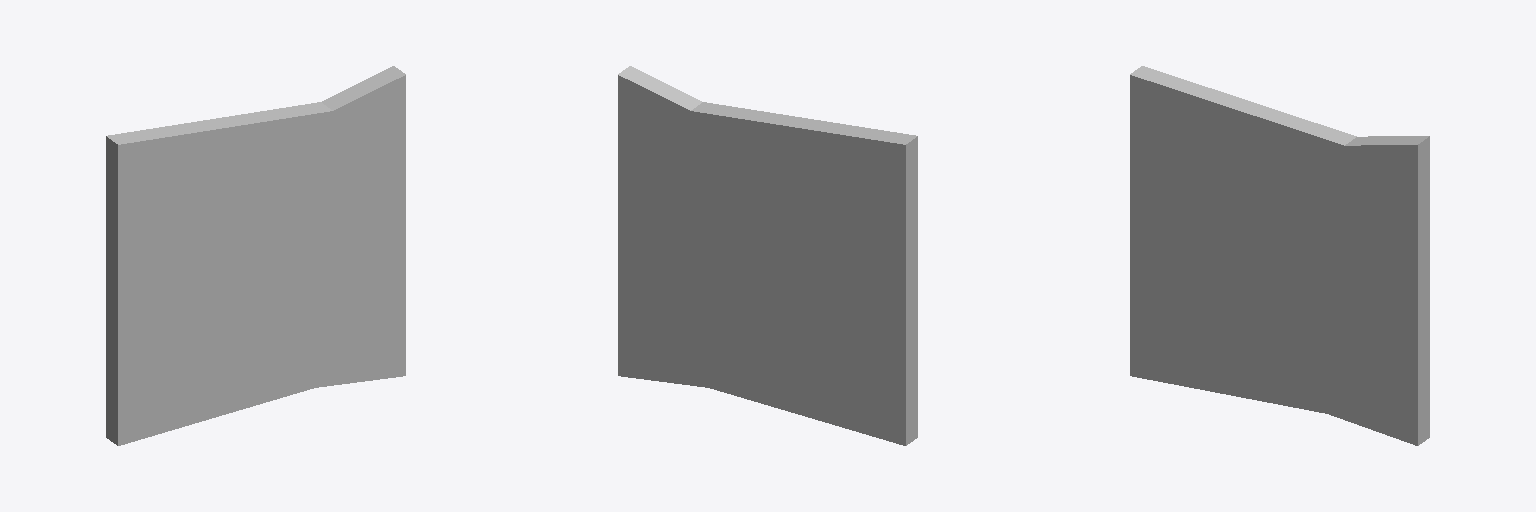
File: Gold.obj
3 views of the same model, side by side, from view 1: azimuth 30°, elevation 25°; view 2: azimuth 150°, elevation 25°; view 3: azimuth 330°, elevation 25° (orthographic).
Visible parts, largest first — view 1: Cube.001; view 2: Cube.001; view 3: Cube.001.
Boxes of the visible parts, x1=… form: Cube.001: x1=106, y1=66, x2=405, y2=445; Cube.001: x1=618, y1=66, x2=917, y2=445; Cube.001: x1=1130, y1=66, x2=1429, y2=445.
Size of the model in its own units: 37.03 by 37.03 by 2.76.